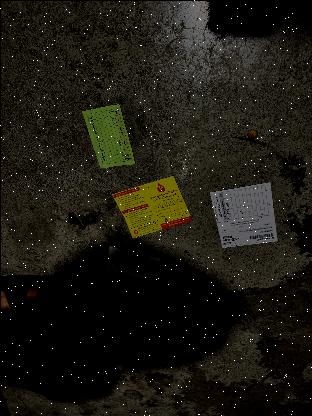Others: (108, 172, 188, 242), (209, 178, 281, 255), (79, 101, 135, 173), (95, 244, 168, 284)
